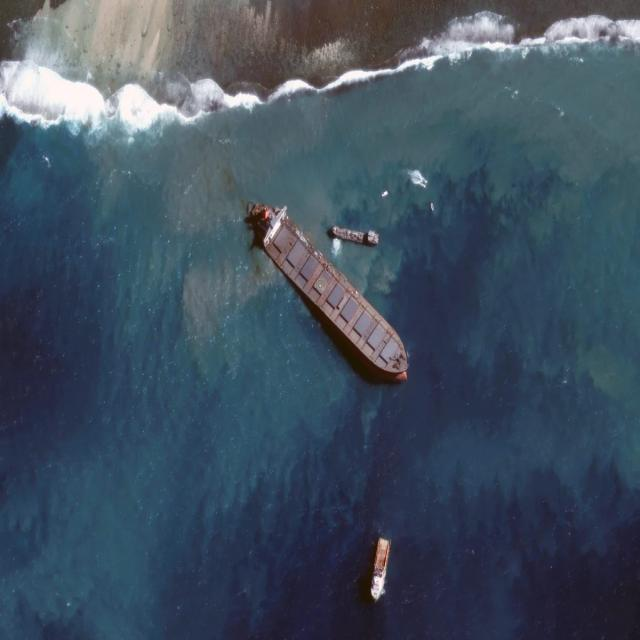oil spill: (165, 170, 260, 334), (92, 170, 145, 274), (272, 116, 332, 167)
